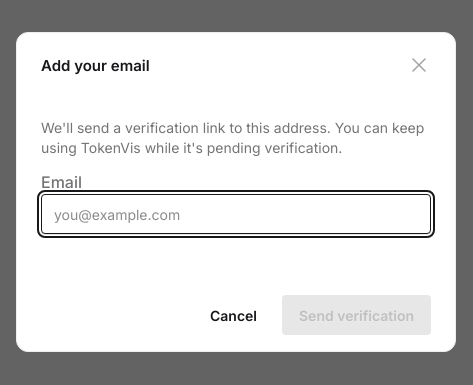
Test case: AddEmailModal › on generic 500: shows generic error
Type "alice@example.com" into the field labelled "Email". click: (236, 214)
box: [41,194,431,234]
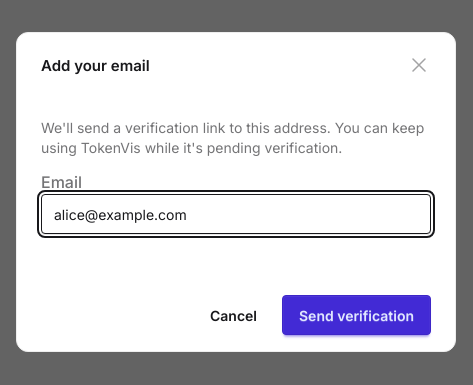
Click the button "Send verification". click: (356, 315)
box: [282,295,431,335]
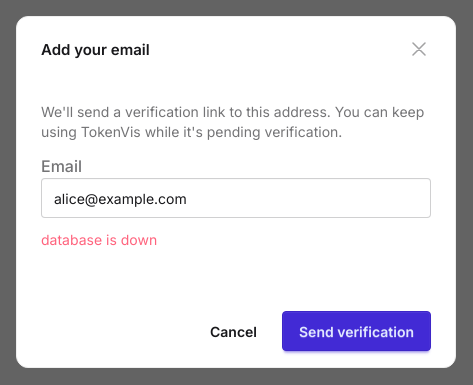
Expected: the text "database is down" is shown, [41,231,157,248]
